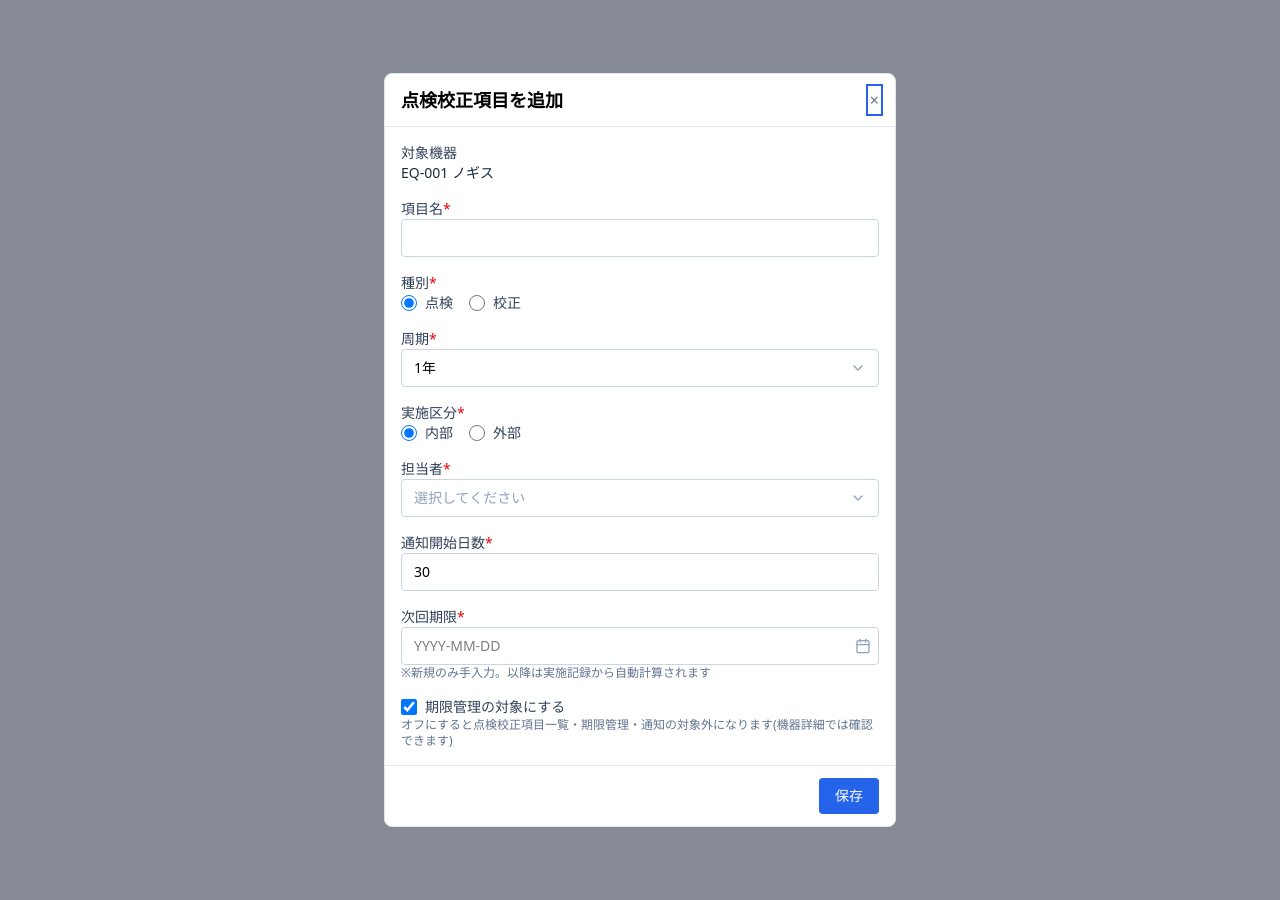
Test: ServiceItemModal: 新規追加 › 外部選択で外部ブロックが表示され、内部に戻すと非表示 + vendorId/leadTimeDaysがクリアされる
Click the radio button labelled "外部".
click(477, 433)  # box [469,425,485,441]
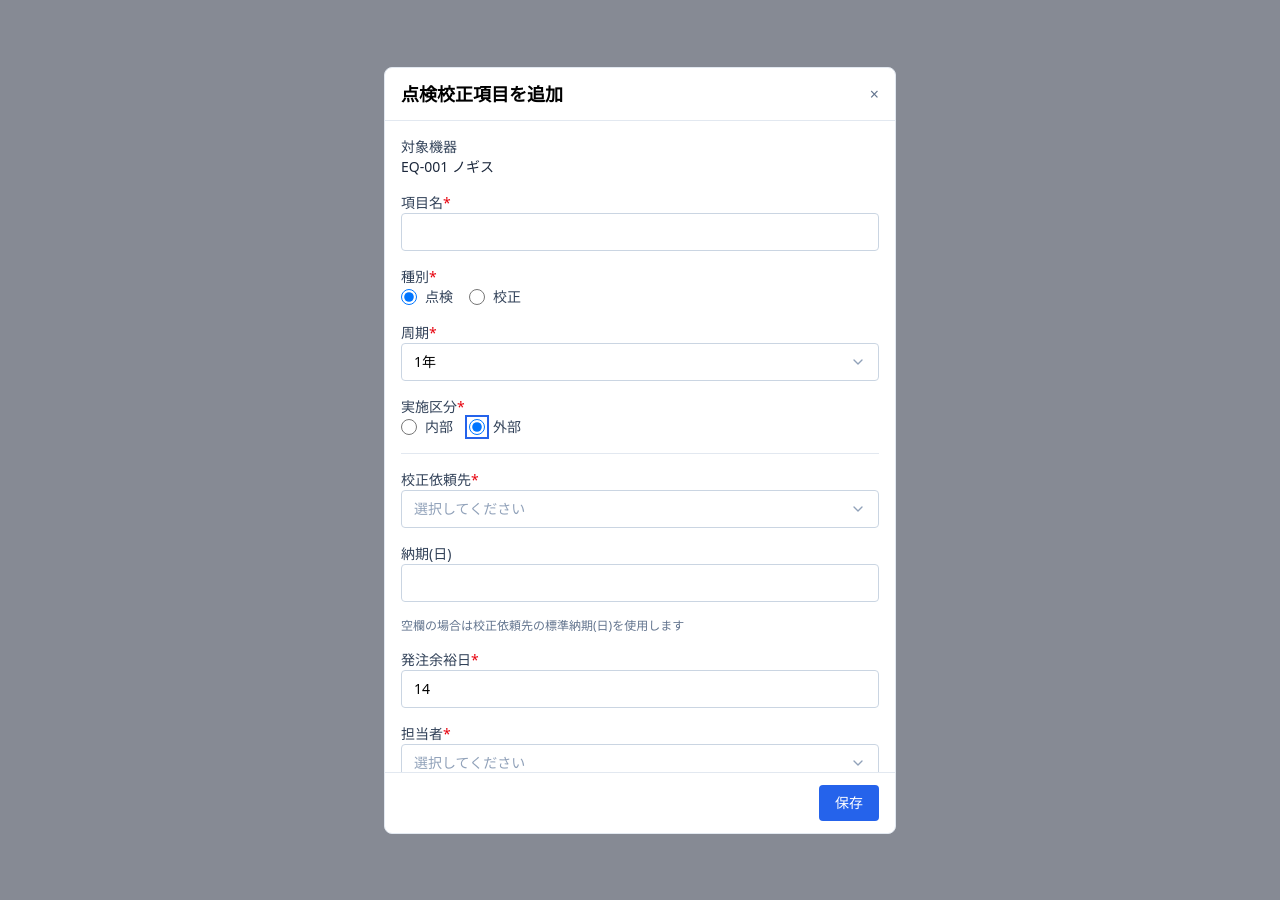
Now the dropdown named "校正依頼先" is shown
Click the dropdown named "校正依頼先".
click(470, 508)  # box [401,490,879,528]
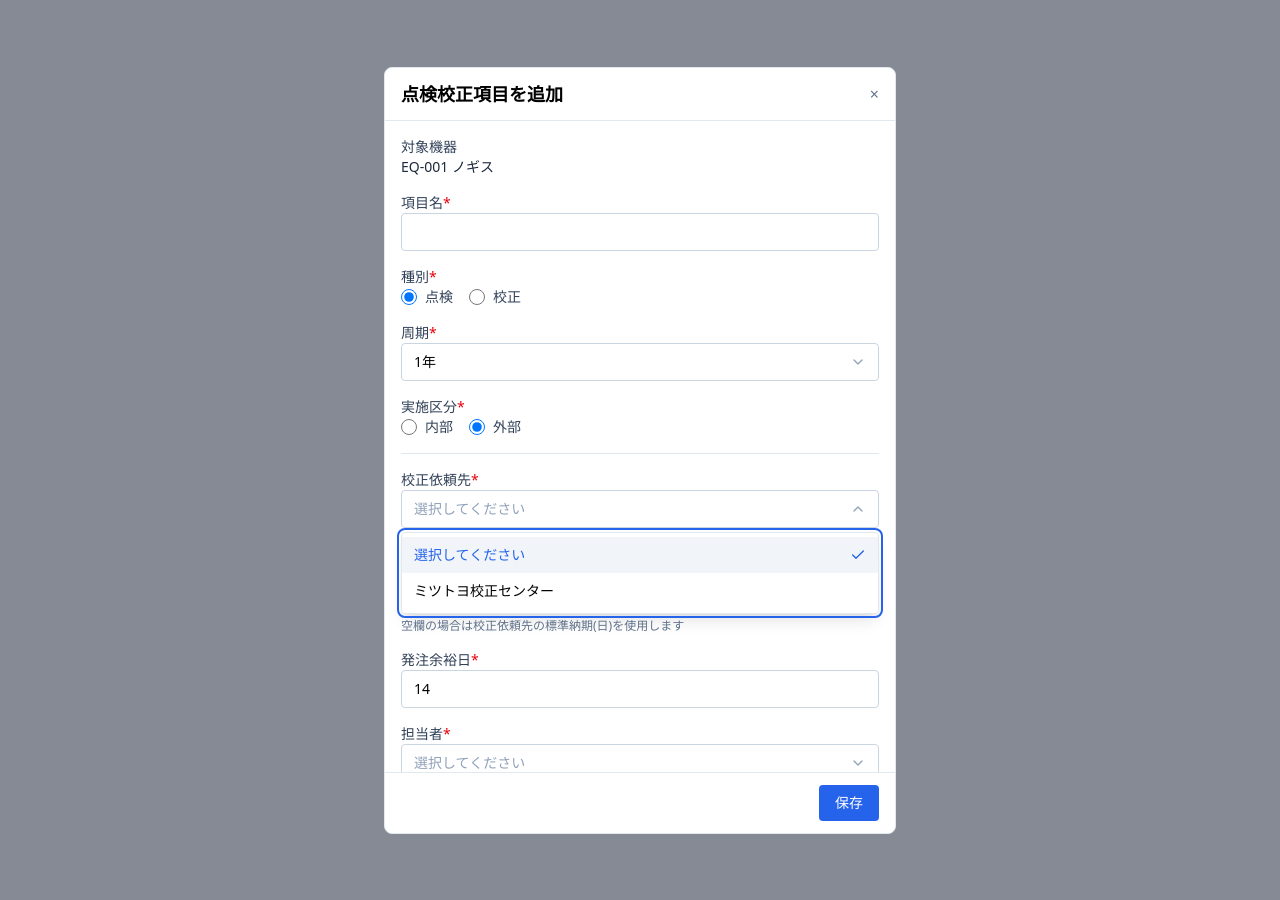
Click the option "ミツトヨ校正センター".
click(484, 590)  # box [402,572,878,608]
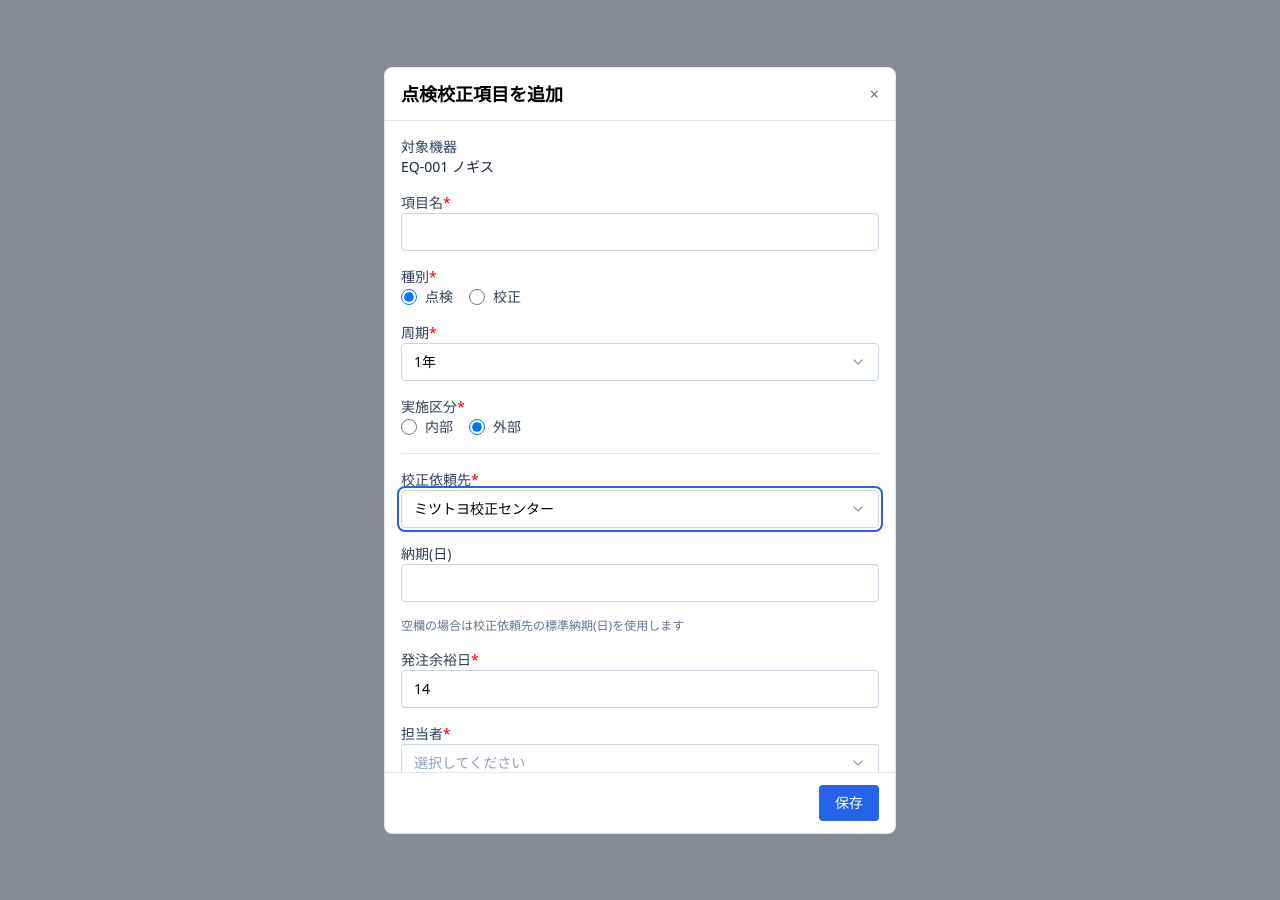
Type "20" into the number field labelled "納期(日)".
click(640, 582); type("20")  # box [401,564,879,602]
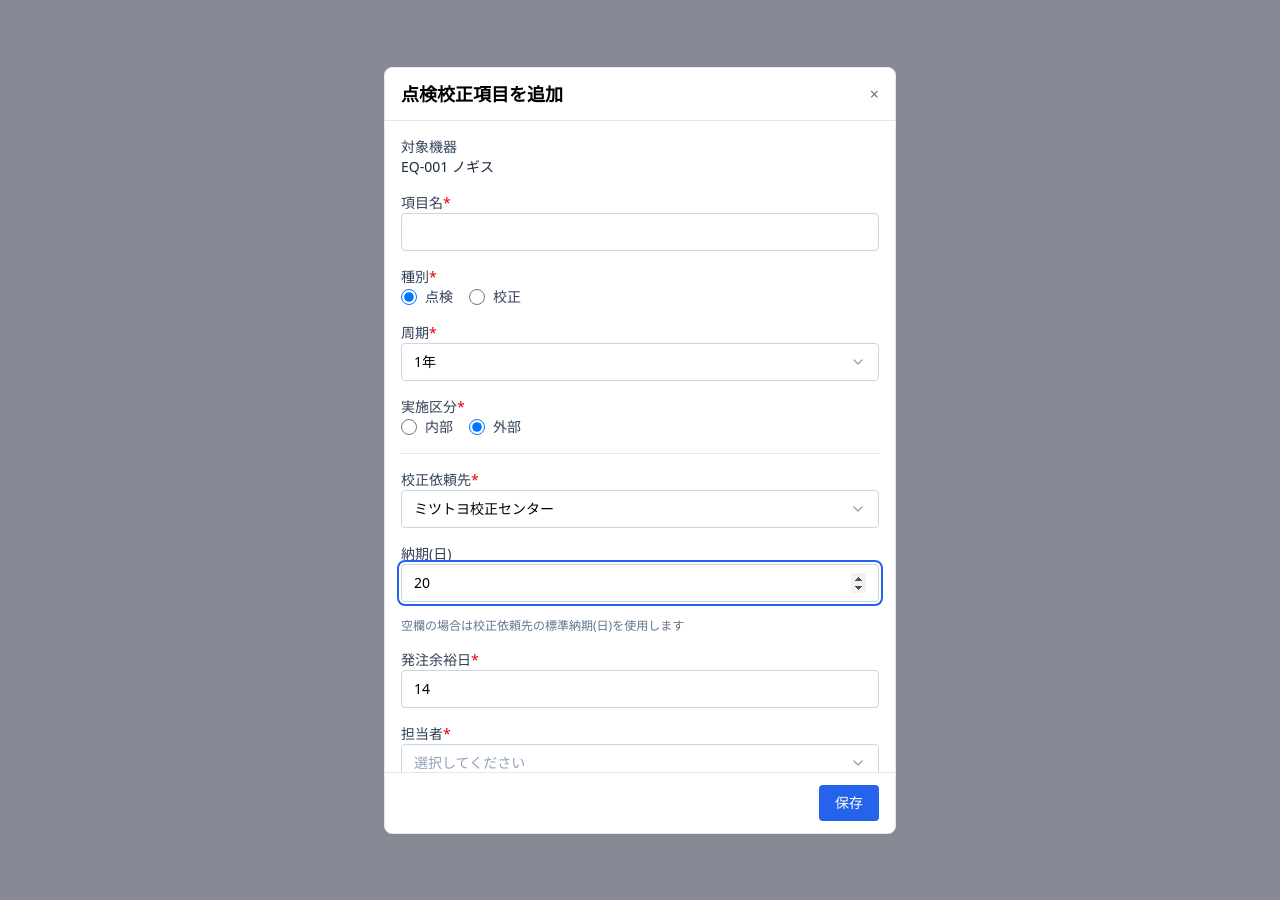
Click the radio button labelled "内部".
click(409, 426)  # box [401,418,417,434]
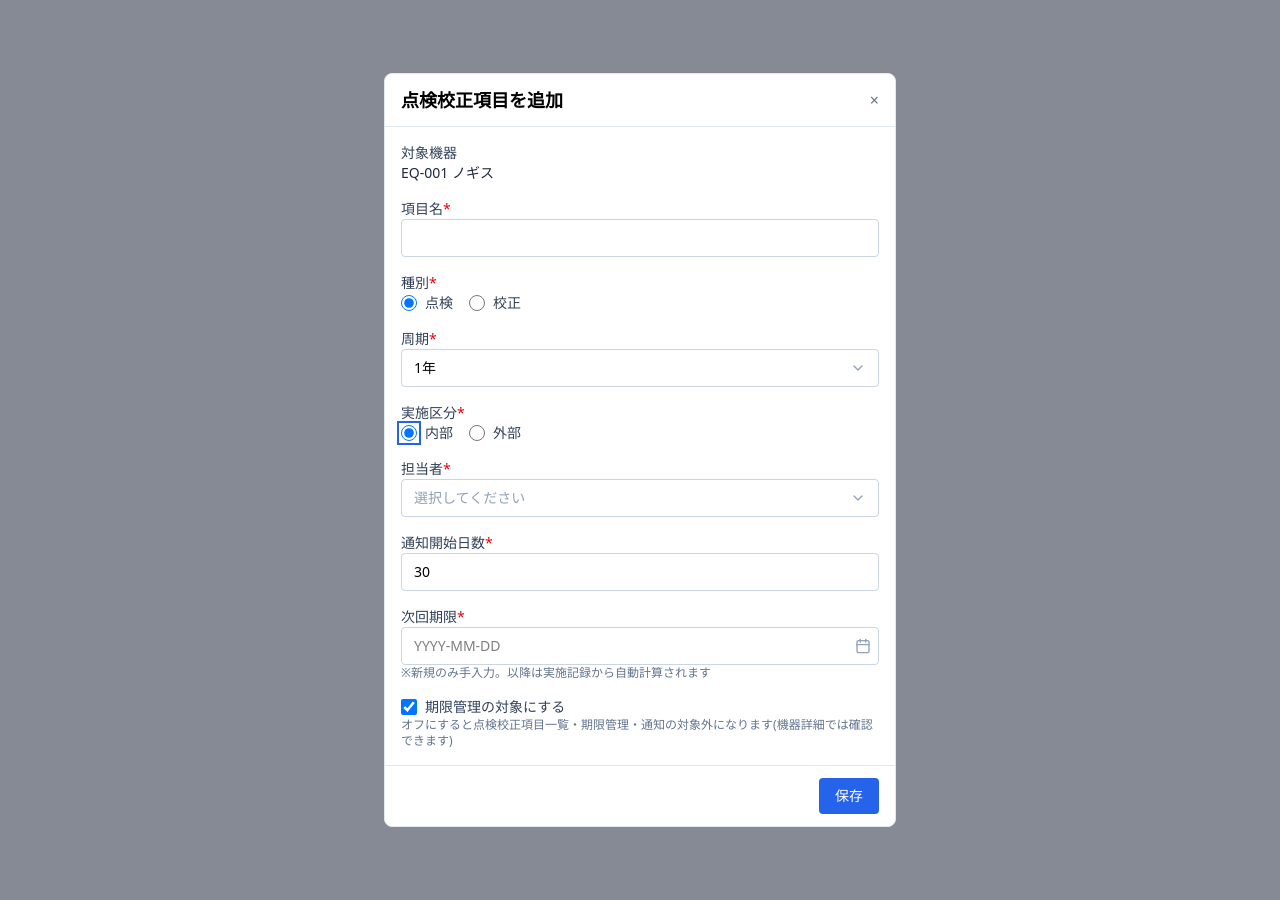
Now the label "校正依頼先" is gone
Now the label labelled "納期(日)" is gone
Click the radio button labelled "外部".
click(477, 433)  # box [469,425,485,441]
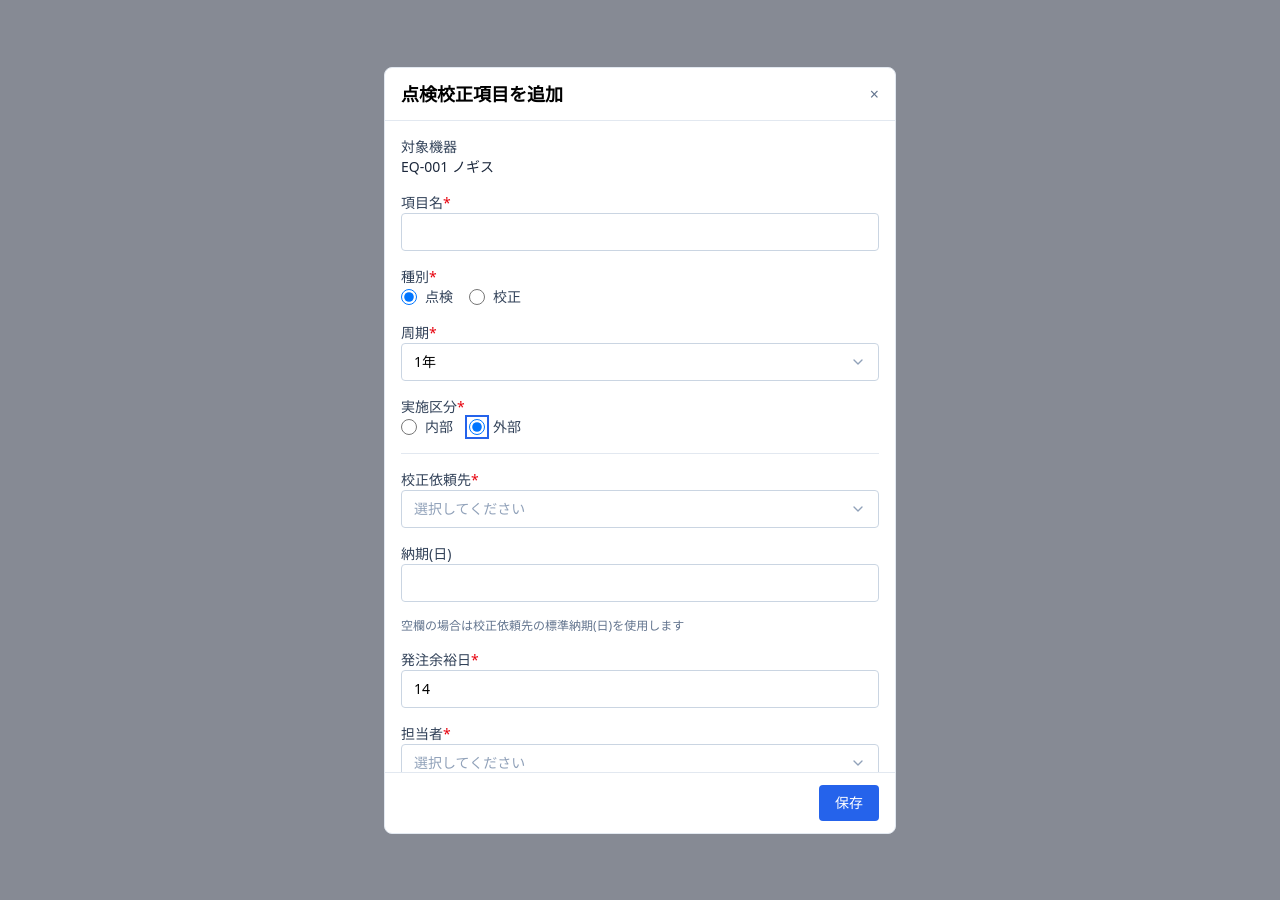
Now the dropdown named "校正依頼先" reads "選択してください", box [401,490,879,528]
Now the number field labelled "納期(日)" is not empty, box [401,564,879,602]
